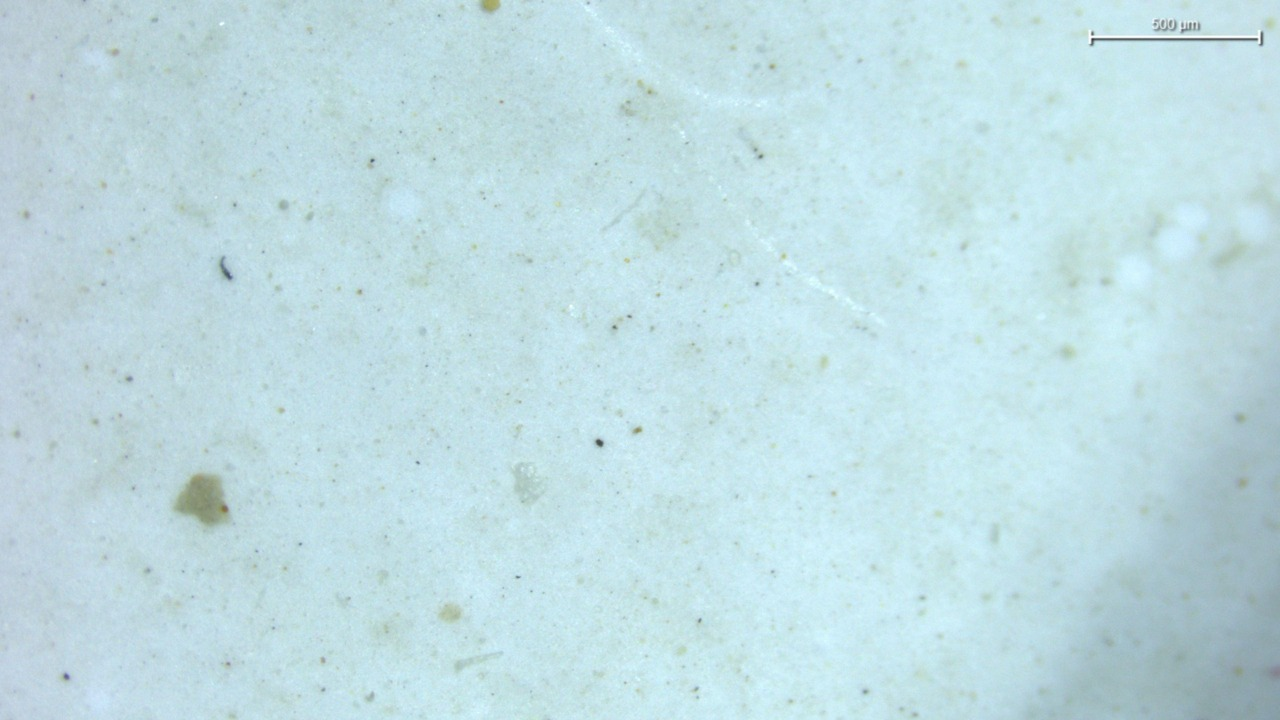microplastic_fragment: (511, 462, 544, 503)
